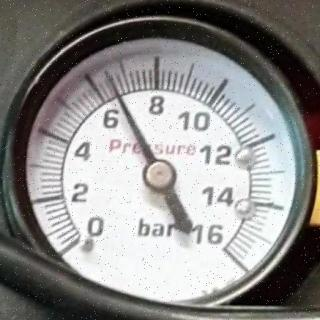gauge: (0, 10, 320, 315), (197, 220, 250, 276), (66, 223, 106, 259), (142, 158, 178, 193), (99, 66, 116, 82)
